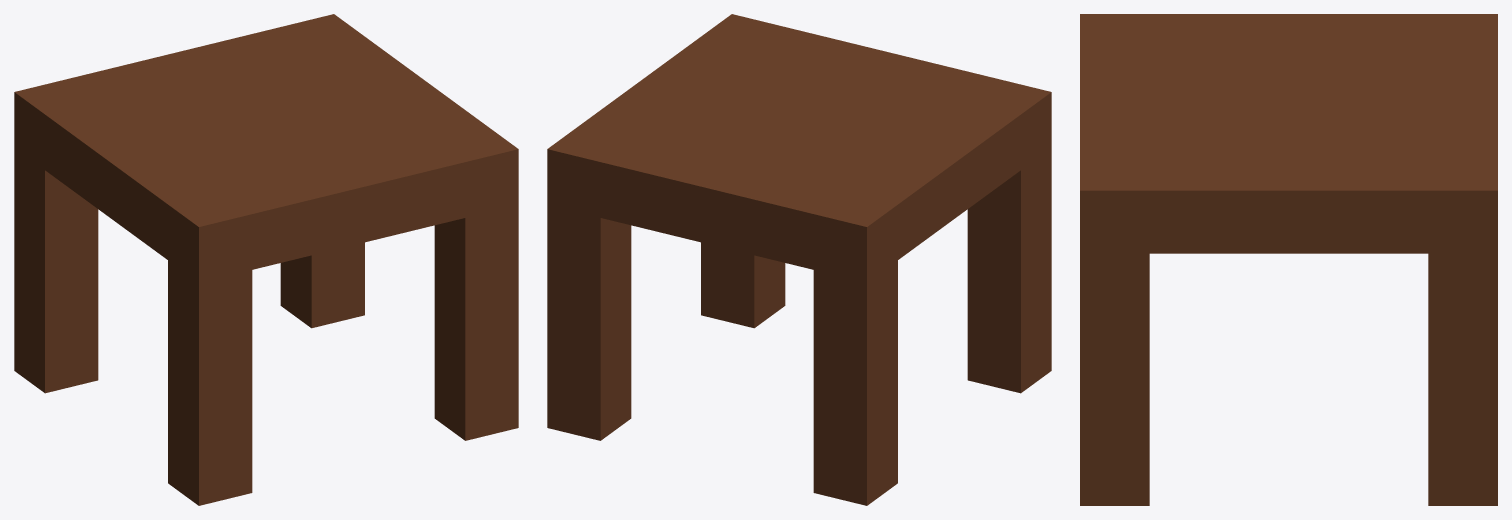
Rendered from Table.dae.
3 views of the same model, side by side, from view 1: azimuth 30°, elevation 25°; view 2: azimuth 150°, elevation 25°; view 3: azimuth 270°, elevation 25° (orthographic). The views are drawn at different scales.
Parts seen in each view (by area): view 1: Table_Top, Leg_3, Leg_4, Leg_2, Leg_1; view 2: Table_Top, Leg_2, Leg_1, Leg_3, Leg_4; view 3: Table_Top, Leg_1, Leg_4.
Part boxes in pixels (<box>): Table_Top: <box>14,14,518,282</box>; Leg_3: <box>168,260,252,505</box>; Leg_4: <box>434,205,518,440</box>; Leg_2: <box>14,148,98,393</box>; Leg_1: <box>280,242,364,328</box>; Table_Top: <box>547,14,1051,282</box>; Leg_2: <box>813,260,897,505</box>; Leg_1: <box>547,205,631,440</box>; Leg_3: <box>967,148,1051,393</box>; Leg_4: <box>701,242,785,328</box>; Table_Top: <box>1080,14,1497,253</box>; Leg_1: <box>1428,253,1497,505</box>; Leg_4: <box>1080,253,1149,505</box>.
Size of the model in its own units: 0.6 by 0.6 by 0.5.
